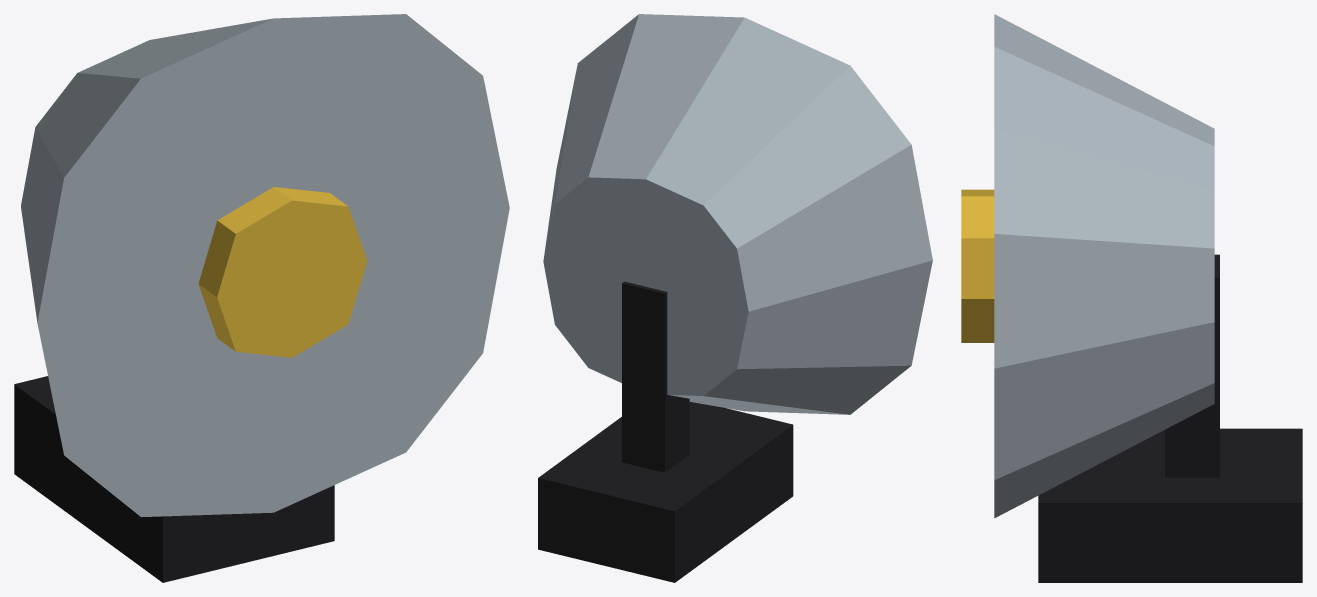
Rendered from GT_WorkLight_01.glb.
3 renders of one model, left to right at view 1: azimuth 30°, elevation 25°; view 2: azimuth 150°, elevation 25°; view 3: azimuth 270°, elevation 25°, orthographic. The views are drawn at different scales.
Visible parts, largest first — view 1: GT_WorkLight_01; view 2: GT_WorkLight_01; view 3: GT_WorkLight_01.
Part boxes in pixels (x1=…): GT_WorkLight_01: x1=14, y1=14, x2=509, y2=582; GT_WorkLight_01: x1=538, y1=14, x2=932, y2=582; GT_WorkLight_01: x1=961, y1=14, x2=1302, y2=582.
Bounding box in the file's own units: 0.22 × 0.25 × 0.155.
Materials: 1 (1 with a texture image).
